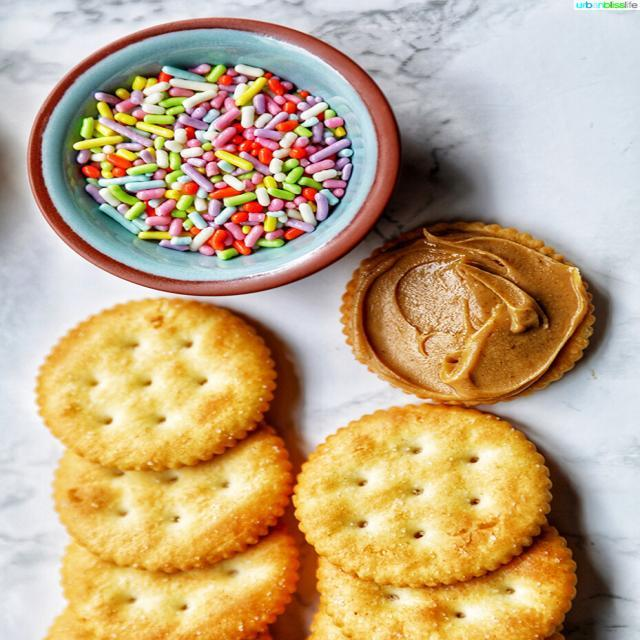Spread: (385, 252, 551, 368)
